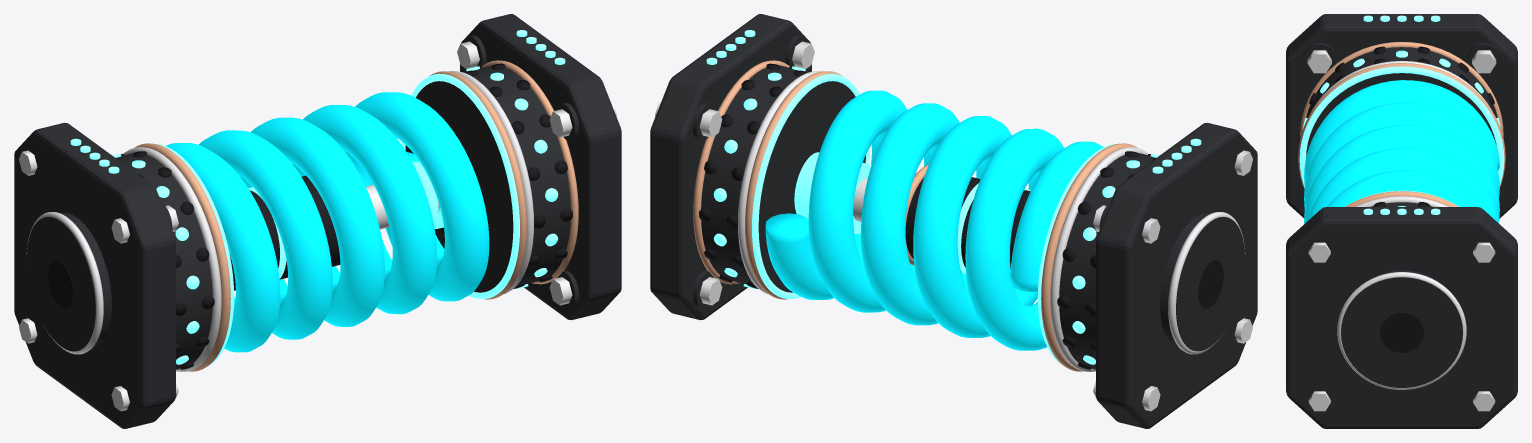
Rendered from sport_suspension_5.glb.
3 views of the same model, side by side, from view 1: azimuth 30°, elevation 25°; view 2: azimuth 150°, elevation 25°; view 3: azimuth 270°, elevation 25° (orthographic). The views are drawn at different scales.
Parts seen in each view (by area): view 1: mountFlex, Stator, mount; view 2: mountFlex, Stator, mount; view 3: mount, Stator, mountFlex.
Part boxes in pixels (left/top/right/bottom): mountFlex: left=166, top=92, right=489, bottom=352; Stator: left=14, top=122, right=234, bottom=428; mount: left=401, top=14, right=621, bottom=320; mountFlex: left=765, top=90, right=1103, bottom=350; Stator: left=1037, top=122, right=1257, bottom=428; mount: left=650, top=14, right=869, bottom=320; mount: left=1286, top=190, right=1517, bottom=428; Stator: left=1286, top=14, right=1517, bottom=218; mountFlex: left=1304, top=80, right=1499, bottom=223.
Bounding box in the file's own units: 0.501 × 0.2225 × 0.22.
